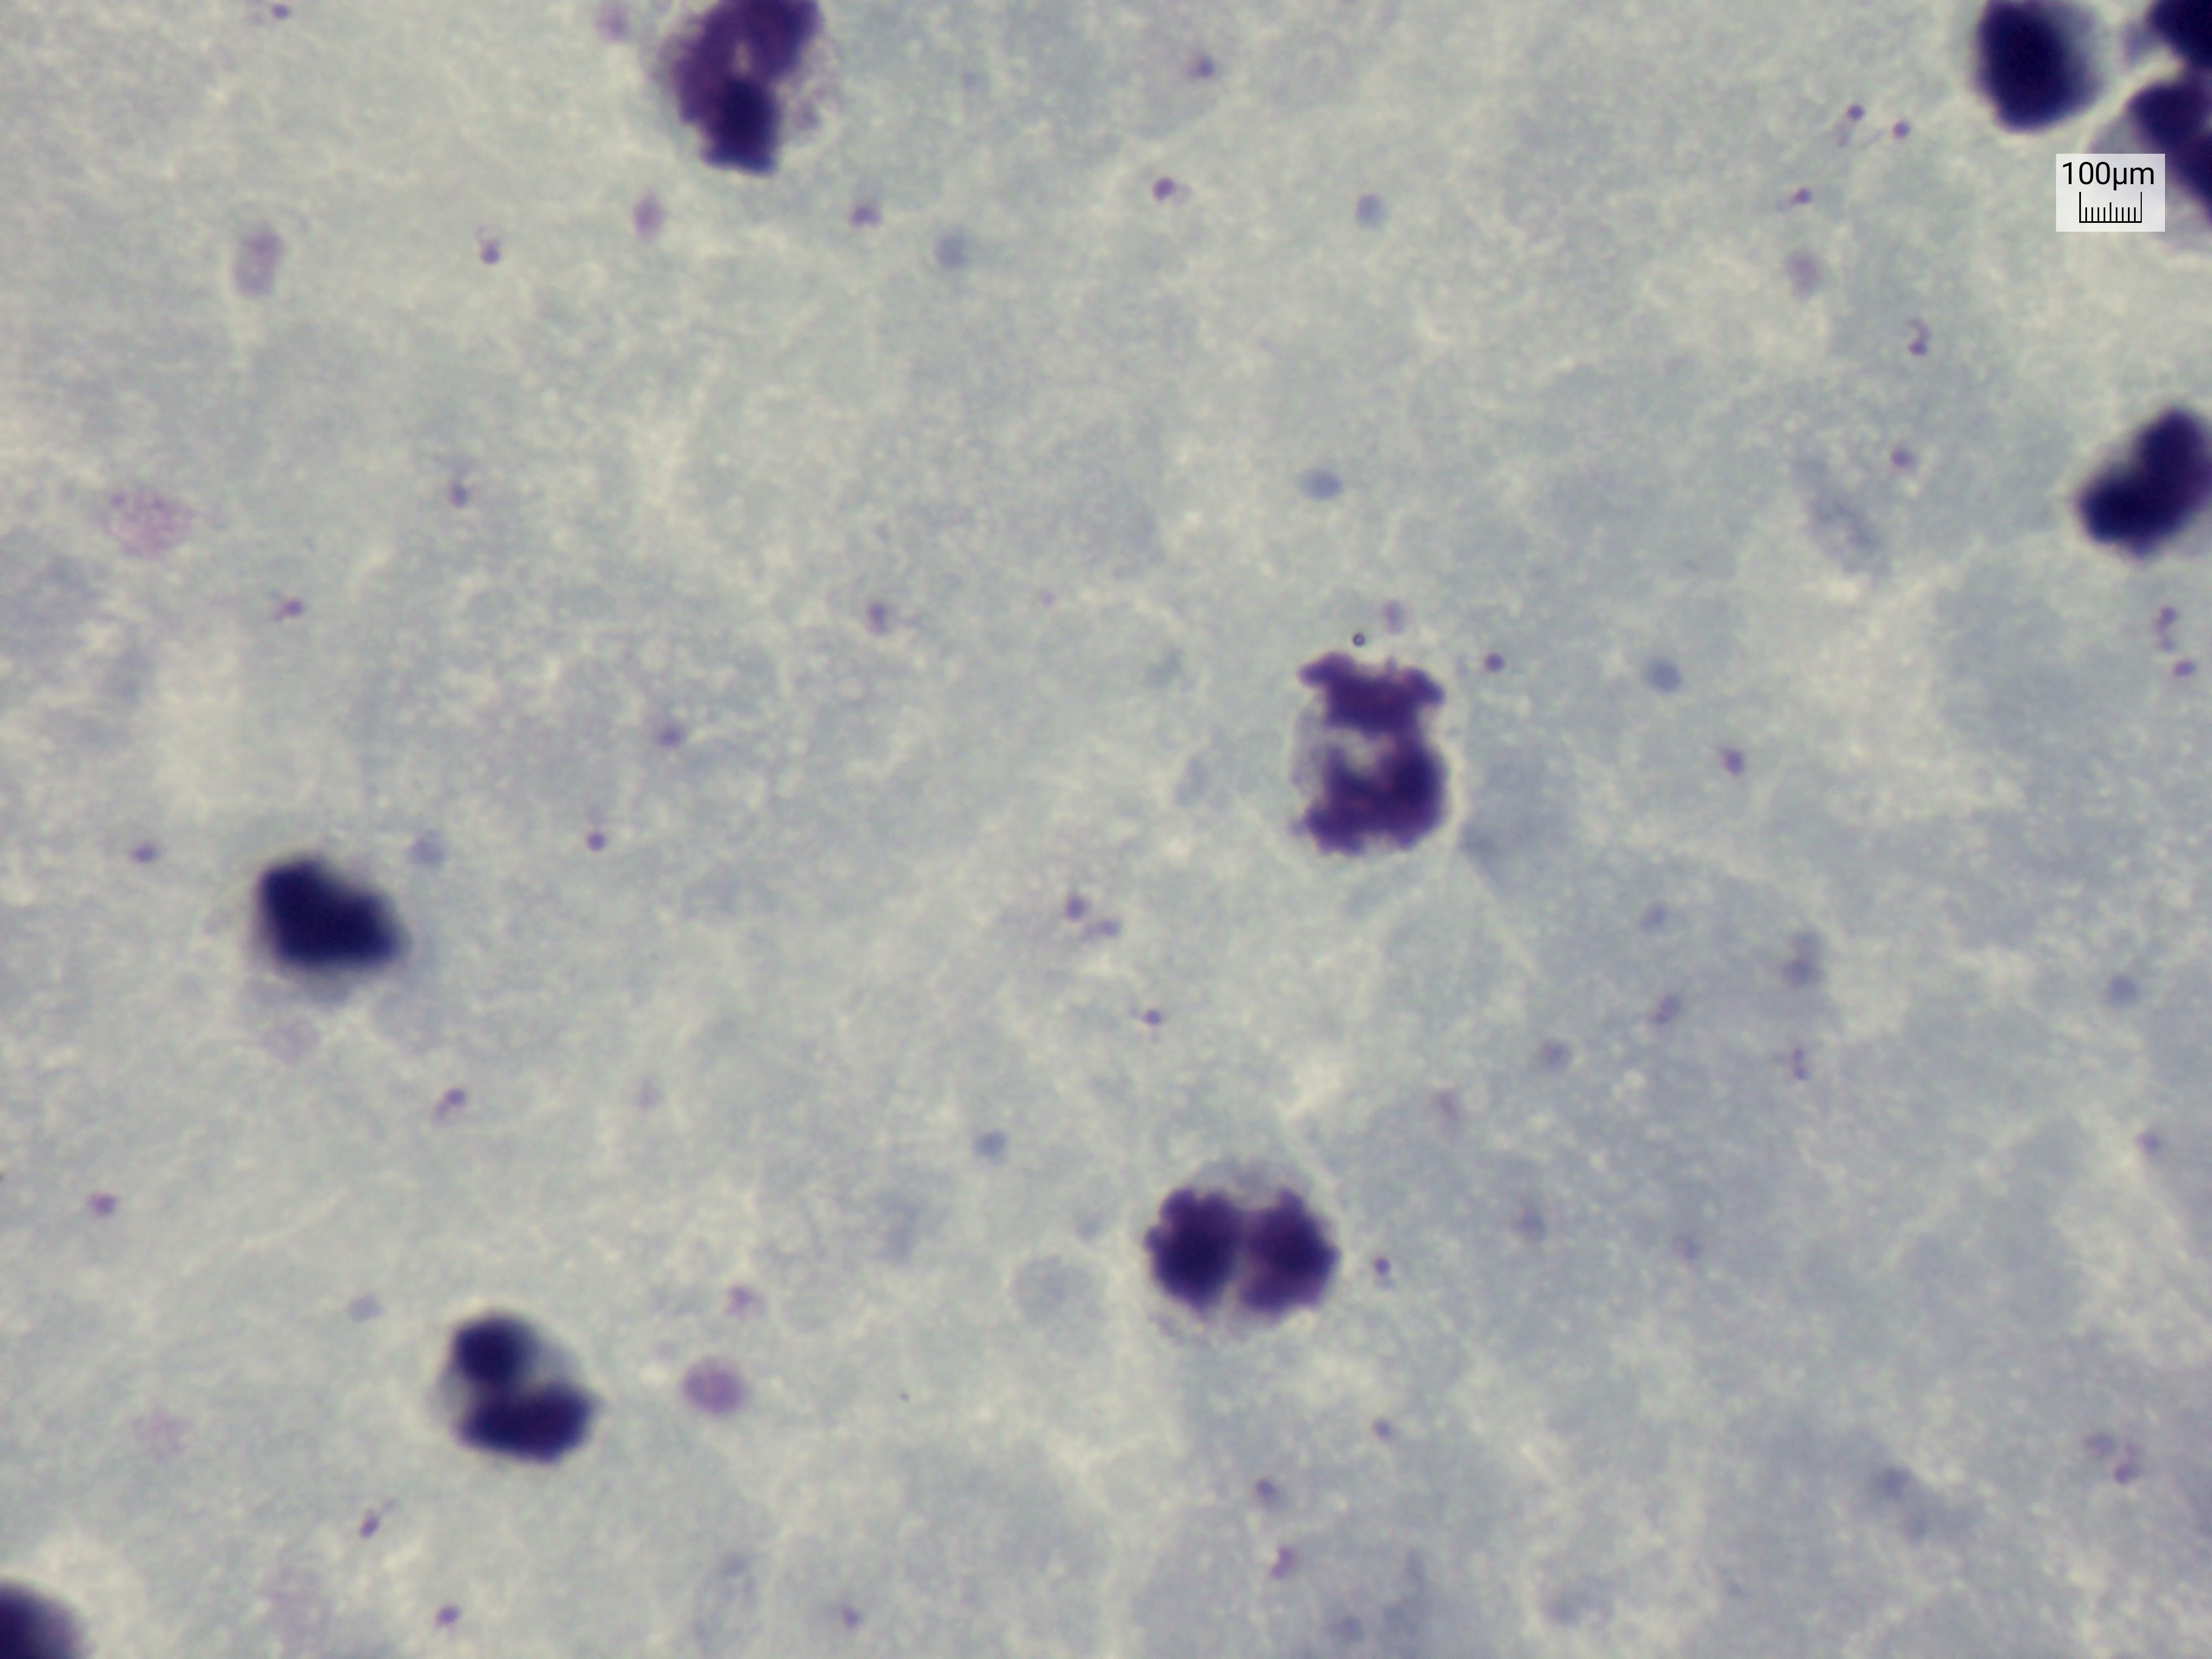p.falciparum: (1036, 870, 1153, 972), (2071, 1408, 2177, 1509), (418, 441, 509, 549), (420, 1046, 500, 1168), (453, 197, 538, 305), (1822, 87, 1933, 157), (324, 1492, 420, 1570), (1130, 150, 1216, 237), (2148, 589, 2207, 713), (1346, 1229, 1416, 1317), (244, 573, 310, 650), (1454, 634, 1519, 709), (1881, 305, 1947, 373)
